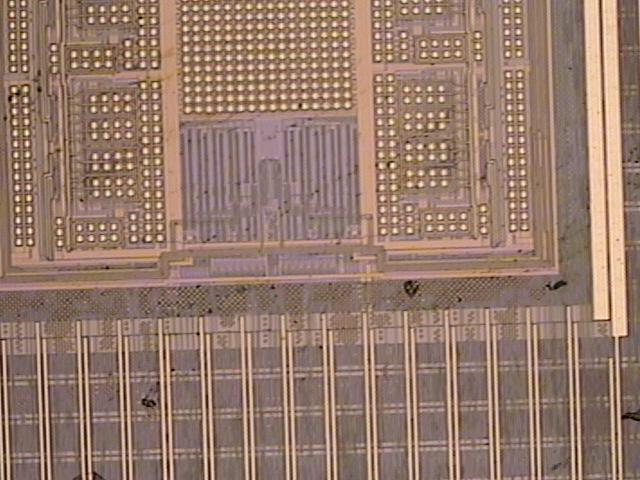PO CONTAMINATION: (1, 41, 640, 480)
